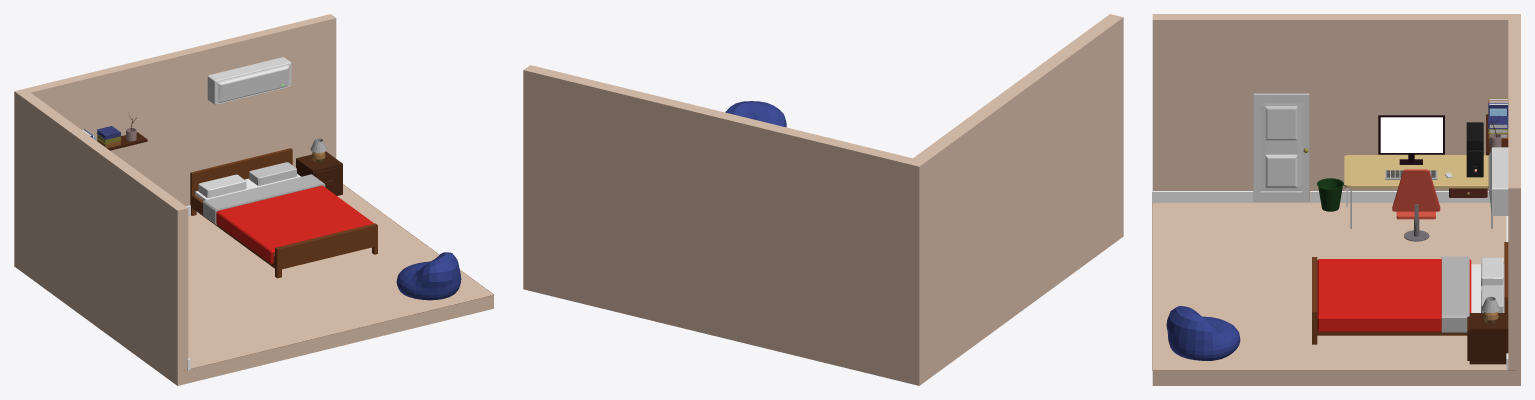
The model's file is bedroom.glb.
3 renders of one model, left to right at view 1: azimuth 30°, elevation 25°; view 2: azimuth 150°, elevation 25°; view 3: azimuth 270°, elevation 25°, orthographic. The views are drawn at different scales.
Visible parts, largest first — view 1: Cube, Cube.005, Cube.003, Cube.002, Sphere.002, Cube.006, Cube.009, Cube.008, Cube.007; view 2: Cube, Sphere.002; view 3: Cube, Cube.005, Cube.001, Cube.010, Sphere.002, Plane.013, Cube.006, Cube.009, Cube.028, Cube.003, Cube.002, Cube.031 (+11 smaller).
Boxes of the visible parts, x1=… form: Cube: x1=14, y1=14, x2=493, y2=385; Cube.005: x1=216, y1=185, x2=373, y2=263; Cube.003: x1=190, y1=148, x2=377, y2=278; Cube.002: x1=207, y1=57, x2=291, y2=104; Sphere.002: x1=396, y1=252, x2=461, y2=300; Cube.006: x1=203, y1=174, x2=325, y2=224; Cube.009: x1=296, y1=151, x2=342, y2=195; Cube.008: x1=198, y1=174, x2=246, y2=197; Cube.007: x1=249, y1=162, x2=297, y2=185; Cube: x1=523, y1=14, x2=1123, y2=385; Sphere.002: x1=725, y1=101, x2=786, y2=127; Cube: x1=1152, y1=14, x2=1520, y2=385; Cube.005: x1=1317, y1=259, x2=1471, y2=331; Cube.001: x1=1253, y1=93, x2=1309, y2=202; Cube.010: x1=1344, y1=155, x2=1488, y2=188; Sphere.002: x1=1166, y1=306, x2=1240, y2=360; Plane.013: x1=1380, y1=117, x2=1442, y2=152; Cube.006: x1=1441, y1=256, x2=1469, y2=332; Cube.009: x1=1467, y1=313, x2=1508, y2=364; Cube.028: x1=1392, y1=169, x2=1440, y2=211; Cube.003: x1=1312, y1=242, x2=1508, y2=344; Cube.002: x1=1488, y1=147, x2=1508, y2=215; Cube.031: x1=1152, y1=190, x2=1253, y2=203.
Bounding box in the file's own units: 4.59 × 2.43 × 4.11.
